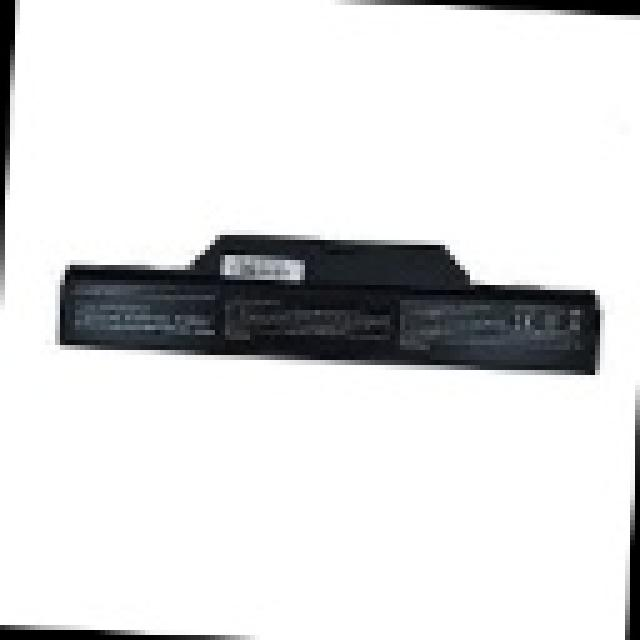B3: (57, 216, 615, 383)
